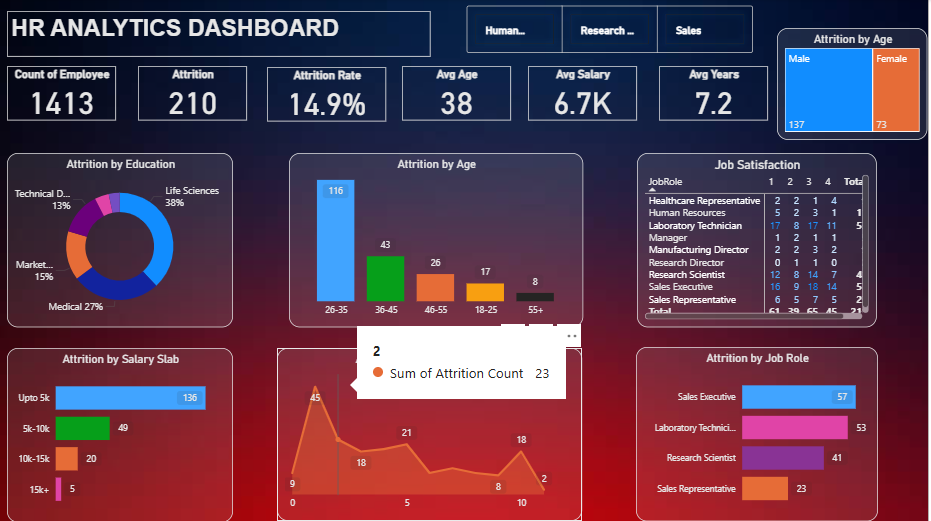

This screenshot's page, from the dashboard's own definition file:
{"tool":"powerbi","page":{"name":"Page 1","canvas":[1280,720],"ordinal":0},"visuals":[{"type":"card","title":"Count of Employee","fields":{"Values":["CountNonNull(HR_Analytics.EmpID)"]},"box":[12.5,92.4,150.2,75.1],"z":0},{"type":"card","title":"Attrition","fields":{"Values":["Sum(HR_Analytics.Attrition Count)"]},"box":[193.1,92.4,150.2,75.1],"z":1000},{"type":"card","title":"Attrition Rate","fields":{"Values":["HR_Analytics.AttritionRate"]},"box":[370.1,93.6,164.2,74.9],"z":2000},{"type":"card","title":"Avg Age","fields":{"Values":["Avg(HR_Analytics.Age)"]},"box":[556,92.4,150.2,75.1],"z":3000},{"type":"card","title":"Avg Salary","fields":{"Values":["Avg(HR_Analytics.MonthlyIncome)"]},"box":[729.4,92.4,150.2,75.1],"z":4000},{"type":"card","title":"Avg Years","fields":{"Values":["Avg(HR_Analytics.YearsAtCompany)"]},"box":[909.9,92.4,150.2,75.1],"z":5000},{"type":"donutChart","title":"Attrition by Education","fields":{"Category":["HR_Analytics.EducationField"],"Y":["Sum(HR_Analytics.Attrition Count)"]},"box":[13,211.7,311,240.5],"z":6000},{"type":"columnChart","title":"Attrition by Age","fields":{"Category":["HR_Analytics.AgeGroup"],"Y":["Sum(HR_Analytics.Attrition Count)"]},"box":[400.3,211.7,404.6,240.5],"z":7000},{"type":"pivotTable","title":"Job Satisfaction","fields":{"Rows":["HR_Analytics.JobRole"],"Columns":["HR_Analytics.JobSatisfaction"],"Values":["Sum(HR_Analytics.Attrition Count)"]},"box":[879.8,211.7,329.8,240.5],"z":8000},{"type":"barChart","title":"Attrition by Salary Slab","fields":{"Category":["HR_Analytics.SalarySlab"],"Y":["Sum(HR_Analytics.Attrition Count)"]},"box":[12.5,480.1,311.1,239.6],"z":9000},{"type":"barChart","title":"Attrition by Job Role","fields":{"Category":["HR_Analytics.JobRole"],"Y":["Sum(HR_Analytics.Attrition Count)"]},"box":[878.4,479.5,332.6,240.5],"z":10000},{"type":"areaChart","title":"Attrition by Years at Company","fields":{"Category":["HR_Analytics.YearsAtCompany"],"Y":["Sum(HR_Analytics.Attrition Count)"]},"box":[384.4,480.1,420.1,237.8],"z":11000},{"type":"treemap","title":"Attrition by Age","fields":{"Group":["HR_Analytics.Gender"],"Values":["Sum(HR_Analytics.Attrition Count)"]},"box":[1072.6,40.4,207.4,153.7],"z":12000},{"type":"advancedSlicerVisual","fields":{"Values":["HR_Analytics.Department"]},"box":[640,3.6,405.8,75.1],"z":13000},{"type":"textbox","box":[12.5,16.1,582.8,62.6],"z":14000}]}

Visuals, with their boxes in screenshot pixels (x1, y1, x2, y2), scaled from the page's 1280x720 canvas onto the 931x521 screenshot:
"Count of Employee" card: 9/67/118/121
"Attrition" card: 140/67/250/121
"Attrition Rate" card: 269/68/389/122
"Avg Age" card: 404/67/514/121
"Avg Salary" card: 531/67/640/121
"Avg Years" card: 662/67/771/121
"Attrition by Education" donutChart: 9/153/236/327
"Attrition by Age" columnChart: 291/153/585/327
"Job Satisfaction" pivotTable: 640/153/880/327
"Attrition by Salary Slab" barChart: 9/347/235/520
"Attrition by Job Role" barChart: 639/347/881/520
"Attrition by Years at Company" areaChart: 280/347/585/519
"Attrition by Age" treemap: 780/29/930/140
advancedSlicerVisual - HR_Analytics.Department: 466/3/761/57
textbox: 9/12/433/57
